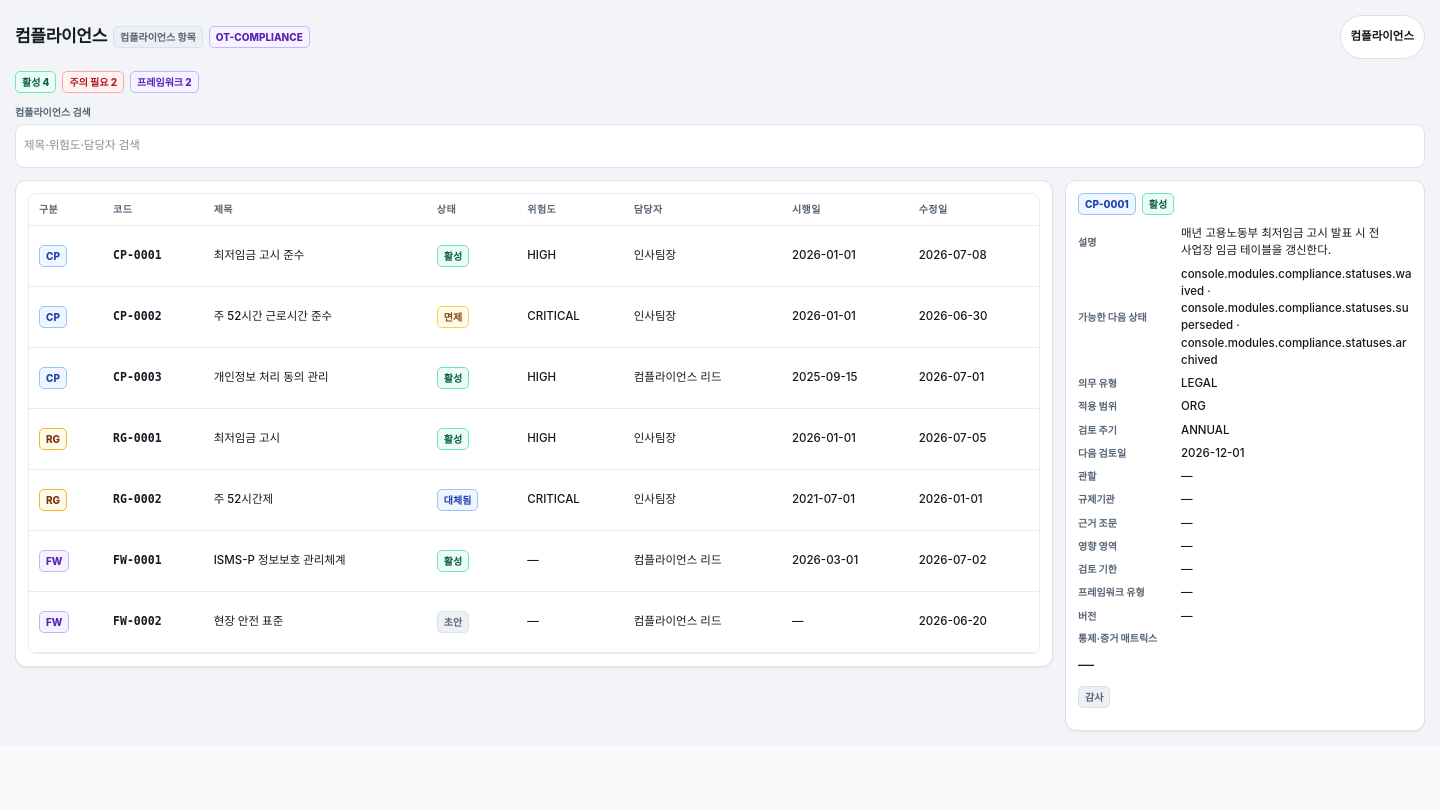
Scenario: complianceModuleScreen › opens a framework row into the right-pin detail with its control-evidence matrix
What coordinates should you click on to do the following:
click the button with aria-label "FW-0001 상세 열기"
I would click on:
 (137, 561)
Its box is [113,539,162,583].
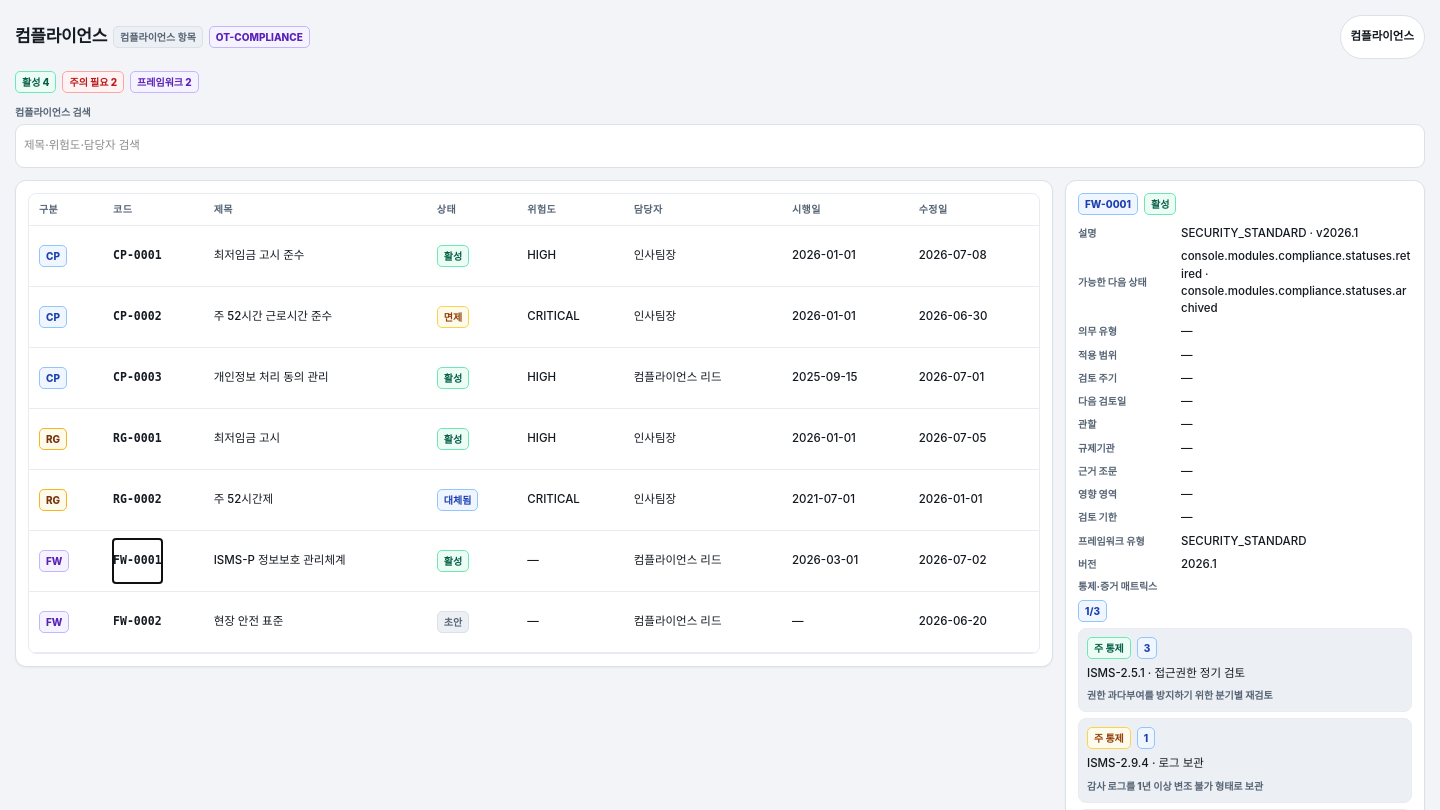
Expected: the text "ISMS-2.5.1 · 접근권한 정기 검토" is shown, [1087,666,1245,680]
Expected: the text "1/3" is shown, [1078,600,1107,622]
